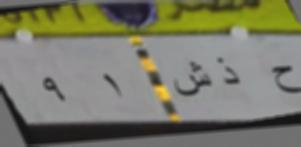1: (99, 68, 128, 104)
7aa: (268, 58, 301, 101)
9: (35, 70, 73, 104)
sheen: (174, 54, 211, 106)
zaal: (214, 52, 242, 91)
